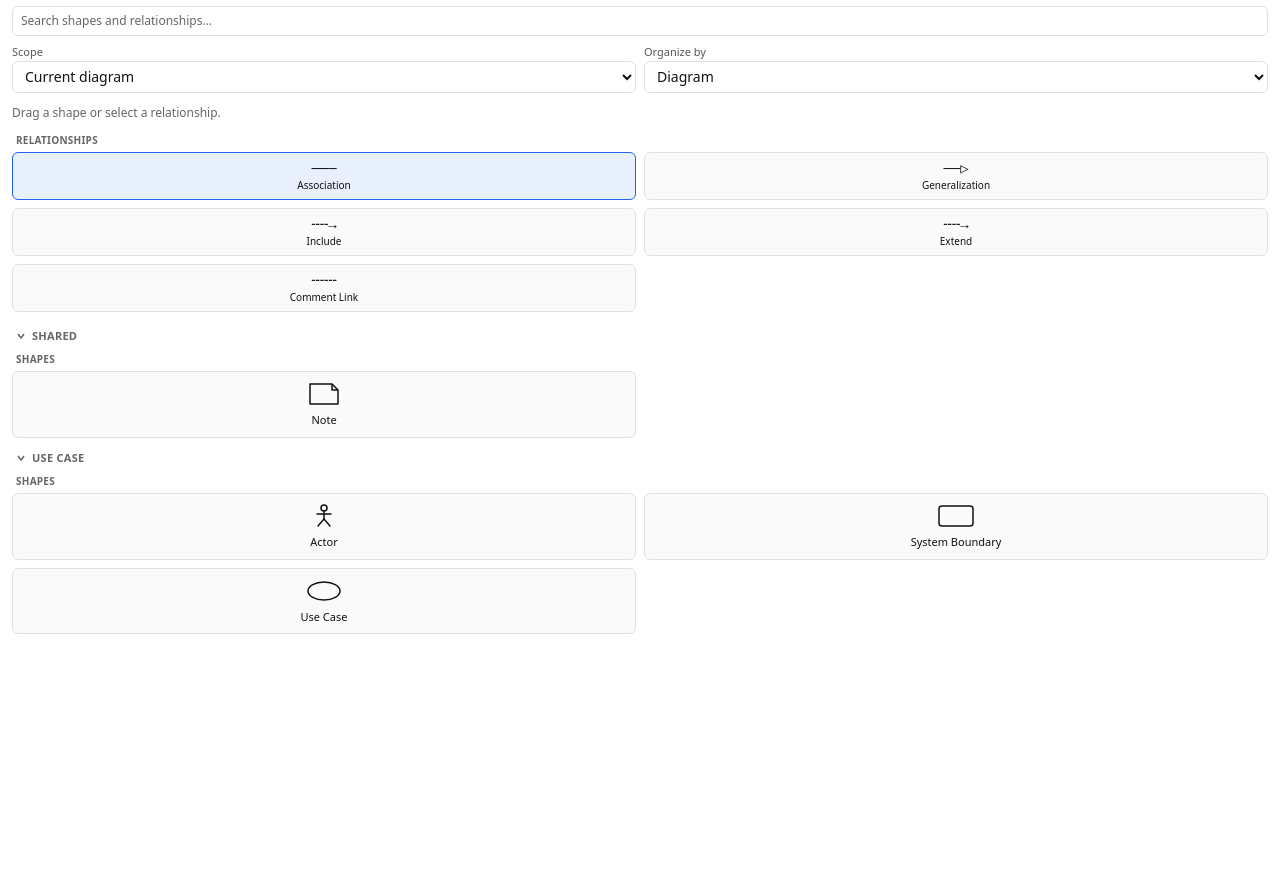
Test: NodePalette › defaults to current diagram organization and can expose the all-authorable notation view
This screenshot has width=1280, height=894.
Expected: the dropdown named "Organize palette by" shows "Diagram", [644,60,1268,92]
Expected: the button "Shared" is shown, [12,324,1268,348]
Step 1. Select "All authorable" in the dropdown named "Palette scope" → (324, 76), box [12,60,636,92]
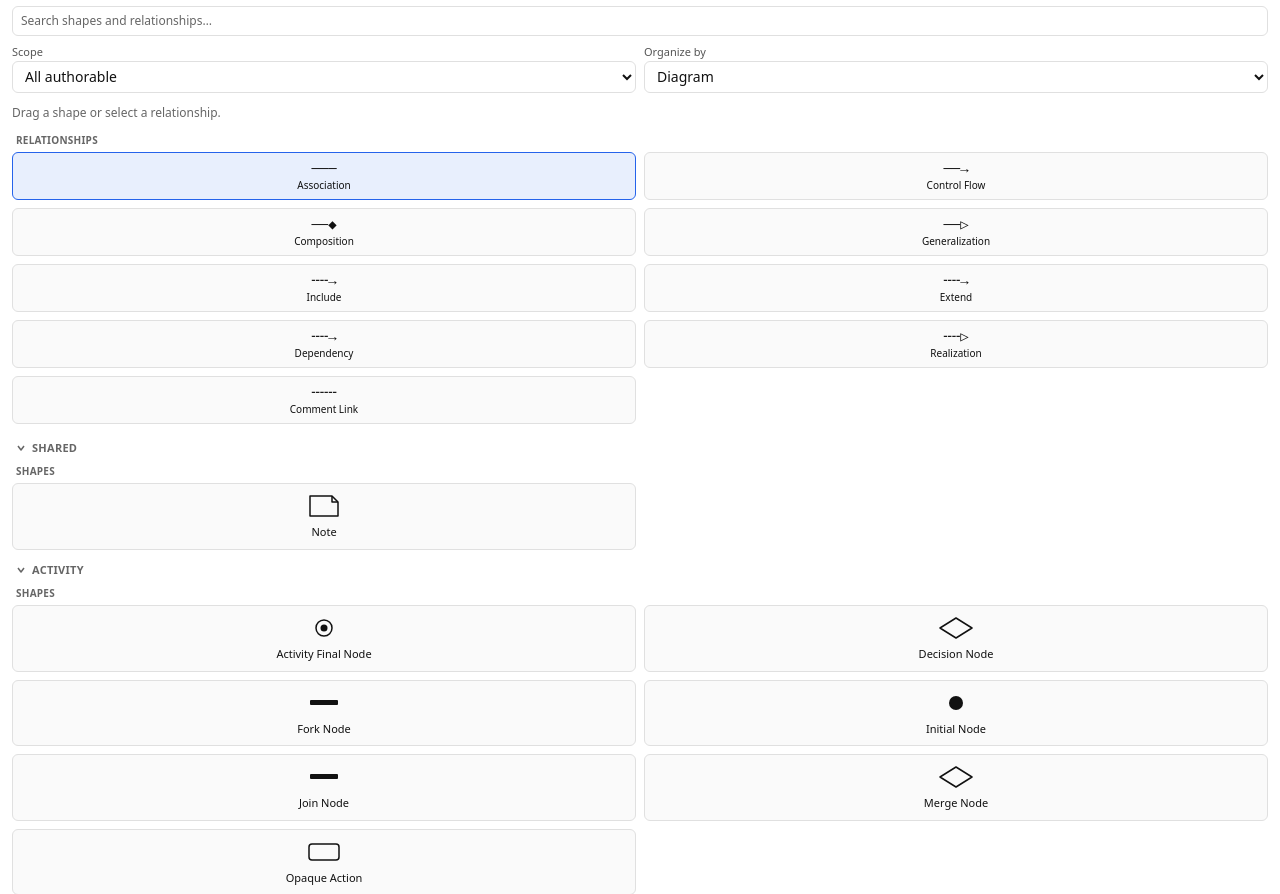
Step 2. Select "Notation" in the dropdown named "Organize palette by" → (956, 76), box [644,60,1268,92]
(page scrolled)
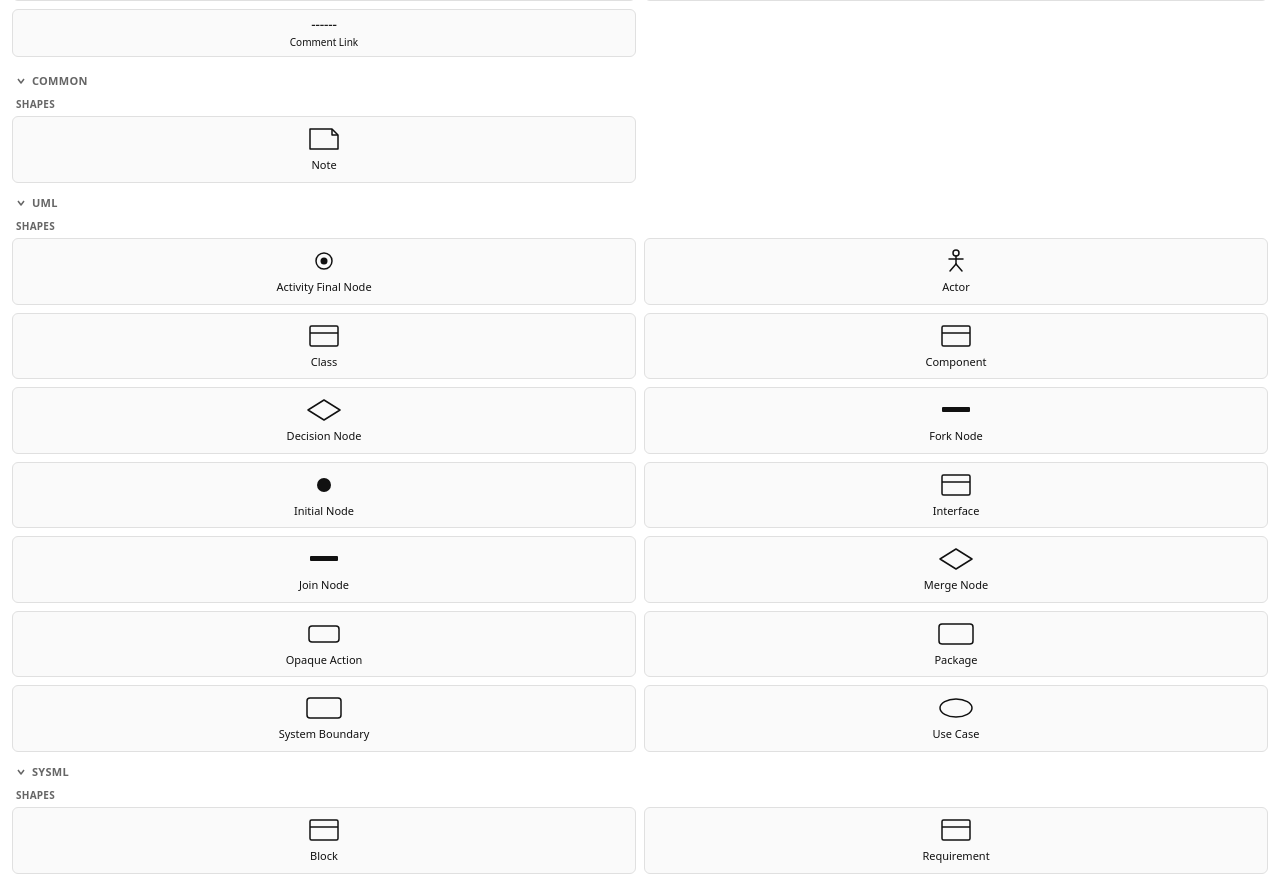
Expected: the button "Common" is shown, [12,68,1268,93]
Expected: the button "UML" is shown, [12,190,1268,215]
Expected: the button "SysML" is shown, [12,760,1268,784]
